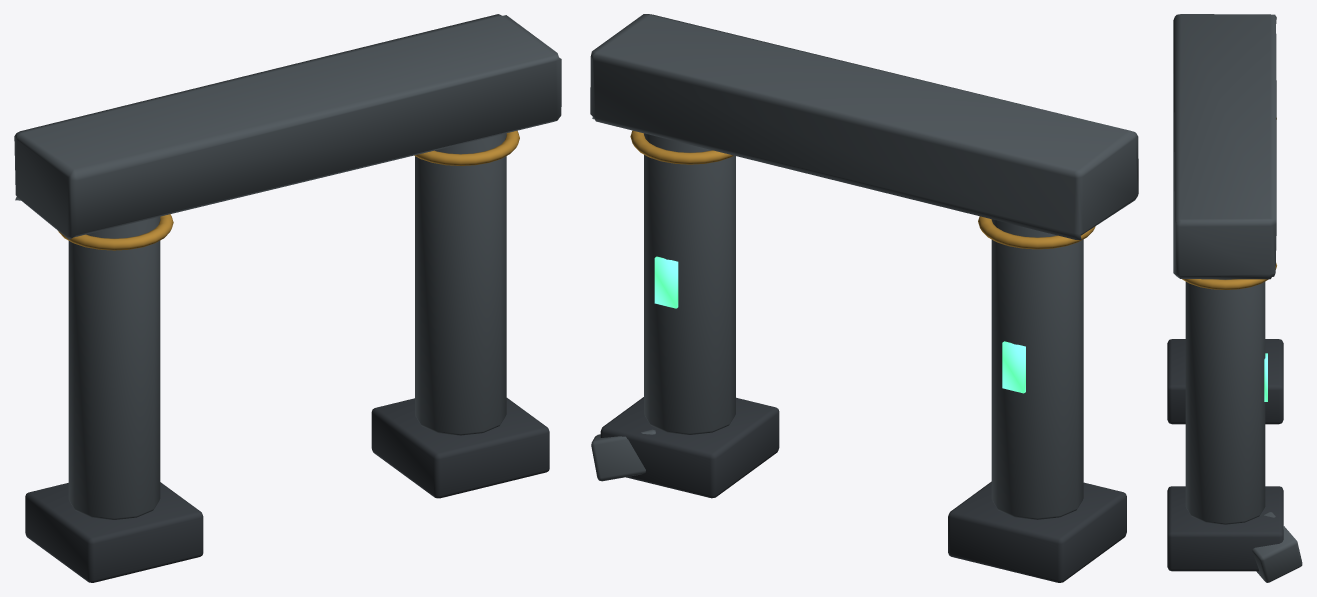
The model's file is ruin_arch.glb.
3 views of the same model, side by side, from view 1: azimuth 30°, elevation 25°; view 2: azimuth 150°, elevation 25°; view 3: azimuth 270°, elevation 25° (orthographic). The views are drawn at different scales.
Visible parts, largest first — view 1: ruin_arch; view 2: ruin_arch; view 3: ruin_arch.
Boxes of the visible parts, <box> form: ruin_arch: <box>14,14,561,582</box>; ruin_arch: <box>590,14,1138,582</box>; ruin_arch: <box>1167,14,1302,582</box>.
Size of the model in its own units: 6.85 by 5.59 by 1.86.
